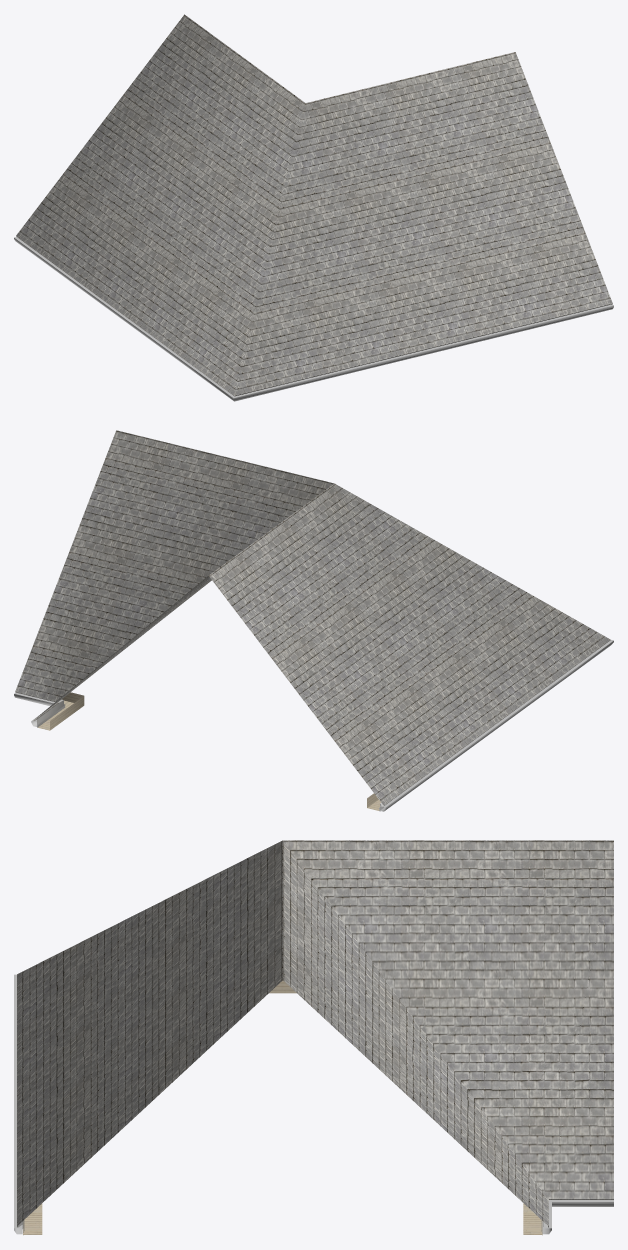
The model's file is Roof_8x_Corner.FBX.
The picture shows the model from 3 angles, top to bottom: view 1: azimuth 30°, elevation 25°; view 2: azimuth 150°, elevation 25°; view 3: azimuth 270°, elevation 25°; orthographic projection. The views are drawn at different scales.
Parts seen in each view (by area): view 1: Roof_8x_Corner; view 2: Roof_8x_Corner; view 3: Roof_8x_Corner.
Boxes of the visible parts, left/top/right/bottom form: Roof_8x_Corner: left=14, top=14, right=613, bottom=401; Roof_8x_Corner: left=14, top=430, right=613, bottom=811; Roof_8x_Corner: left=14, top=840, right=613, bottom=1235.
Bounding box in the file's own units: 997 × 468 × 997.
